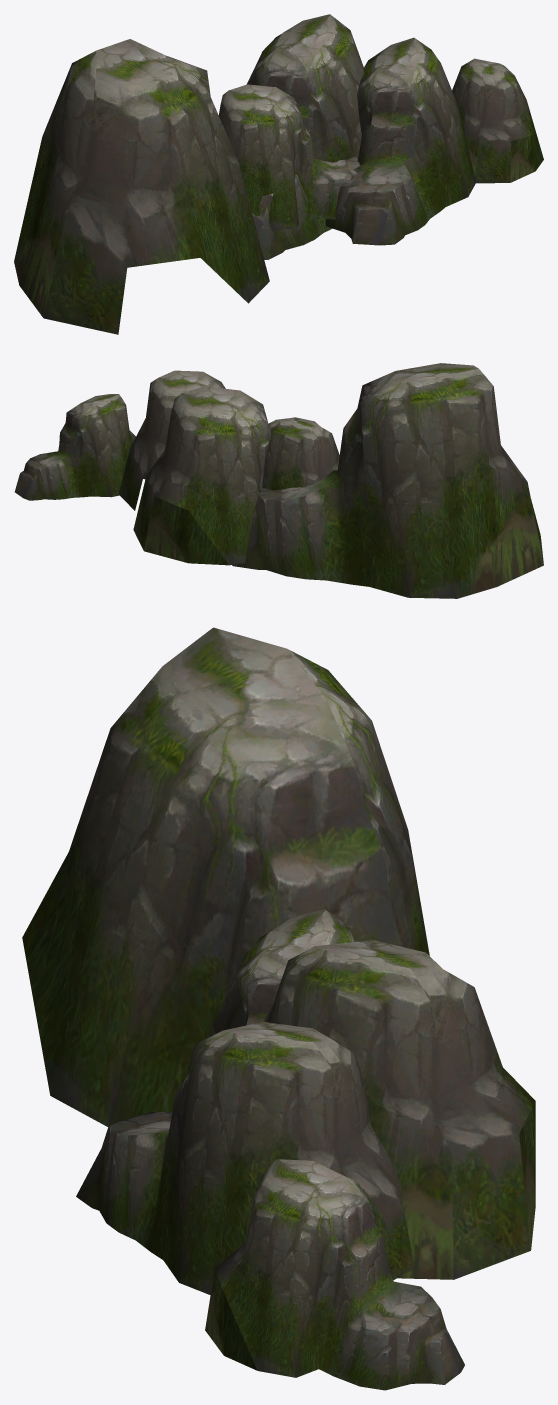
Rendered from Map01_Stone_02_XiaoShan_Grp.FBX.
3 renders of one model, top to bottom at view 1: azimuth 30°, elevation 25°; view 2: azimuth 150°, elevation 25°; view 3: azimuth 270°, elevation 25°, orthographic. The views are drawn at different scales.
Parts seen in each view (by area): view 1: Map01_Tree_01 (×2), Map01_XiaoShiTou_Group; view 2: Map01_Tree_01 (×2), Map01_XiaoShiTou_Group; view 3: Map01_Tree_01 (×2), Map01_XiaoShiTou_Group.
Part boxes in pixels (bbox=[...]): Map01_Tree_01 (×2): bbox=[14, 37, 475, 334]; Map01_XiaoShiTou_Group: bbox=[218, 14, 543, 259]; Map01_Tree_01 (×2): bbox=[118, 363, 543, 598]; Map01_XiaoShiTou_Group: bbox=[14, 386, 339, 565]; Map01_Tree_01 (×2): bbox=[22, 627, 429, 1295]; Map01_XiaoShiTou_Group: bbox=[205, 909, 535, 1390].
Bounding box in the file's own units: 3456 × 1349 × 1645.
